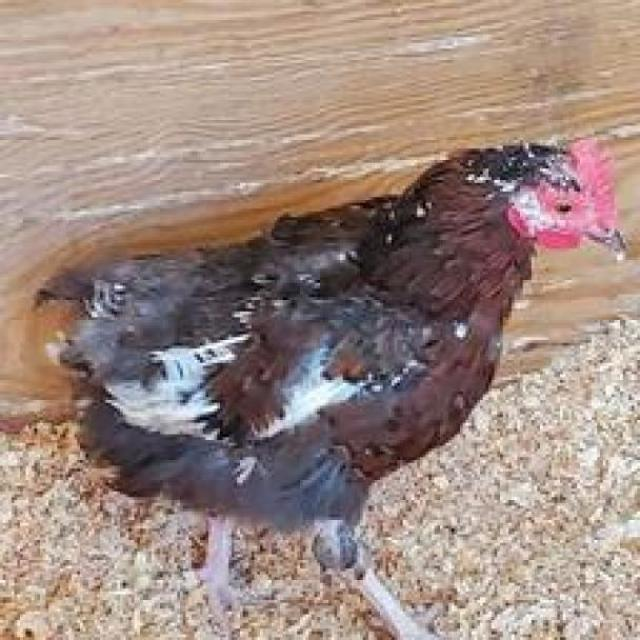Chicken: (0, 90, 636, 640)
